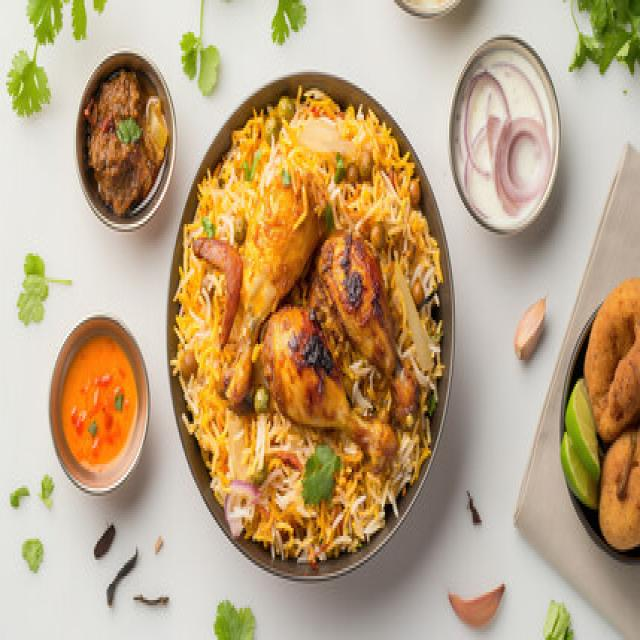BIRIYANI: (175, 88, 446, 562)
CURD: (452, 47, 558, 225)
KURMA: (84, 64, 171, 213), (56, 332, 140, 475)
